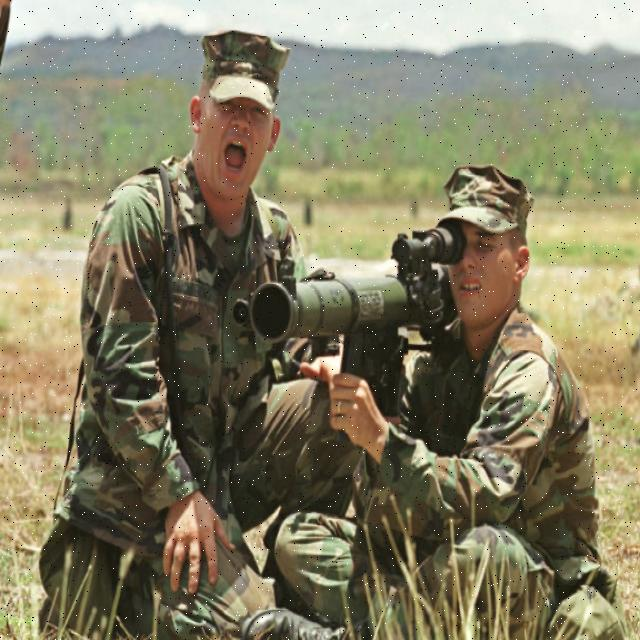bazooka: (239, 236, 451, 412)
